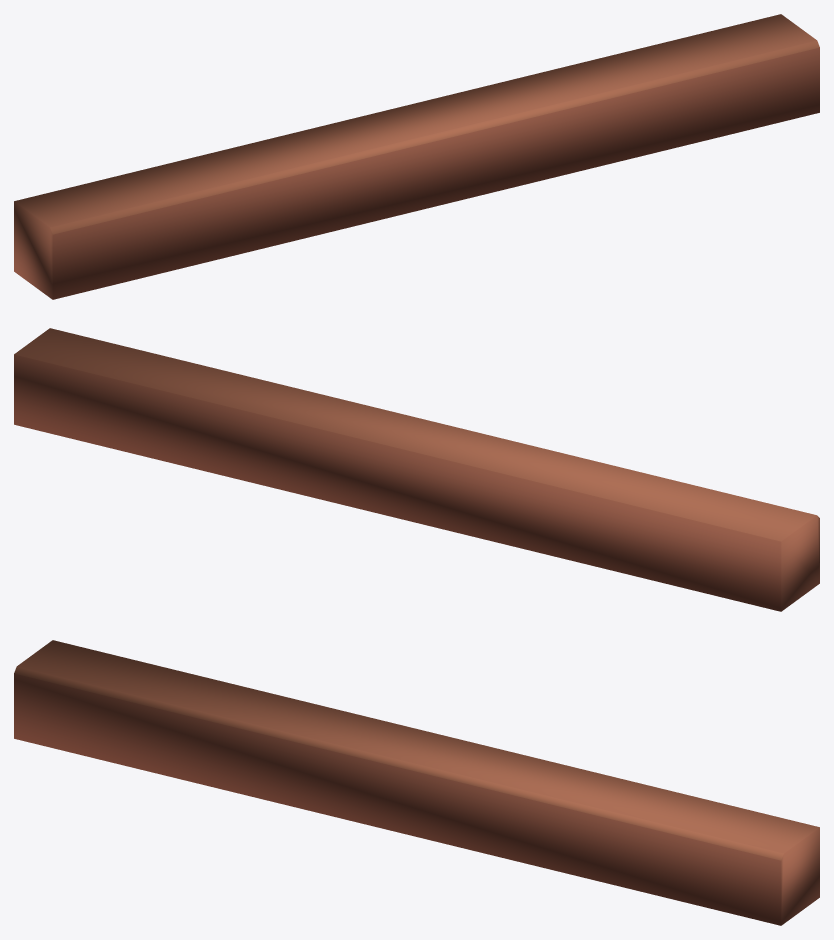
The model's file is scaffold4-optimized.glb.
The picture shows the model from 3 angles, top to bottom: view 1: azimuth 30°, elevation 25°; view 2: azimuth 150°, elevation 25°; view 3: azimuth 330°, elevation 25°; orthographic projection.
Parts seen in each view (by area): view 1: scaffold_beam_wall; view 2: scaffold_beam_wall; view 3: scaffold_beam_wall.
Boxes of the visible parts, box(x1,y1,x2,y2) form: scaffold_beam_wall: box(14, 14, 819, 299); scaffold_beam_wall: box(14, 328, 819, 611); scaffold_beam_wall: box(14, 640, 819, 925).
Size of the model in its own units: 4 by 0.3501 by 0.3501.
Materials: 1 (1 with a texture image).
